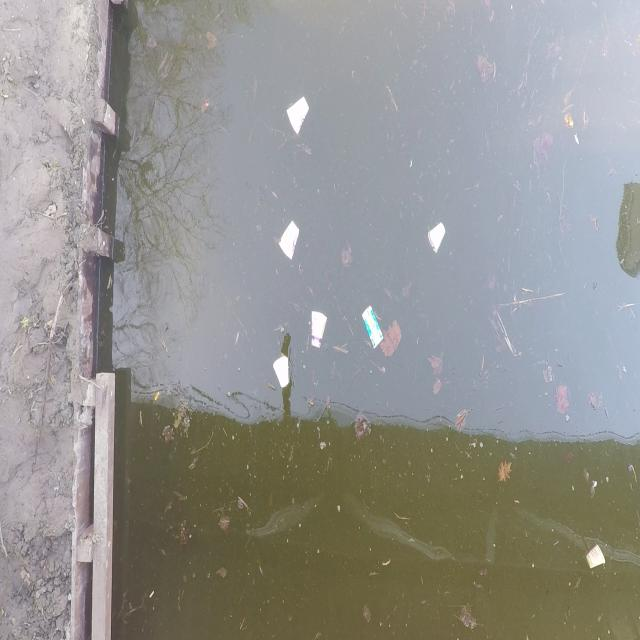Non plastique: (360, 299, 388, 358), (283, 86, 313, 141), (276, 213, 301, 265), (270, 351, 294, 397), (426, 215, 450, 261), (308, 309, 330, 353)
